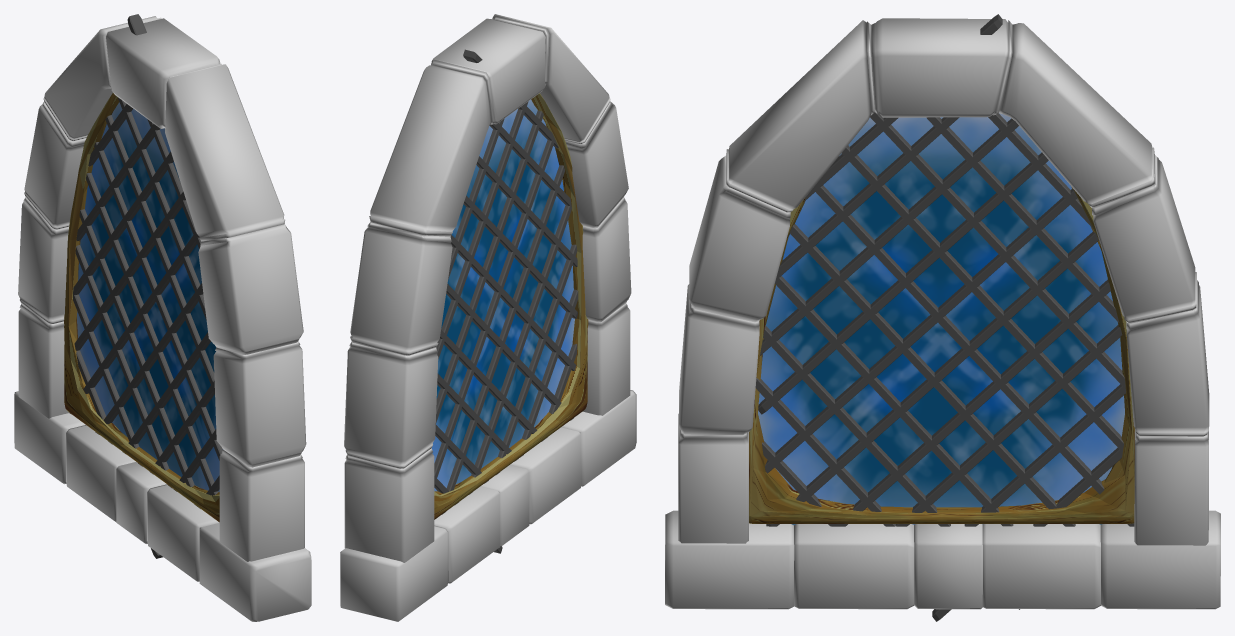
File: Castle_window.fbx
The picture shows the model from 3 angles, left to right: view 1: azimuth 30°, elevation 25°; view 2: azimuth 150°, elevation 25°; view 3: azimuth 270°, elevation 25°; orthographic projection. The views are drawn at different scales.
Visible parts, largest first — view 1: Cube.070, WallWoodV.335, Cube.077, Cube.076; view 2: Cube.070, WallWoodV.335, Cube.077, Cube.076; view 3: Cube.070, Cube.077, WallWoodV.335, Cube.076.
Part boxes in pixels (x1,y1,x2,y2): Cube.070: [14, 16, 311, 621]; WallWoodV.335: [69, 14, 222, 558]; Cube.077: [77, 102, 223, 491]; Cube.076: [64, 93, 219, 522]; Cube.070: [340, 14, 636, 621]; WallWoodV.335: [434, 49, 578, 553]; Cube.077: [431, 99, 574, 491]; Cube.076: [434, 93, 588, 519]; Cube.070: [665, 18, 1220, 609]; Cube.077: [758, 113, 1124, 525]; WallWoodV.335: [755, 14, 1134, 621]; Cube.076: [749, 187, 1134, 523].
Size of the model in its own units: 0.2408 by 1.87 by 1.56.
